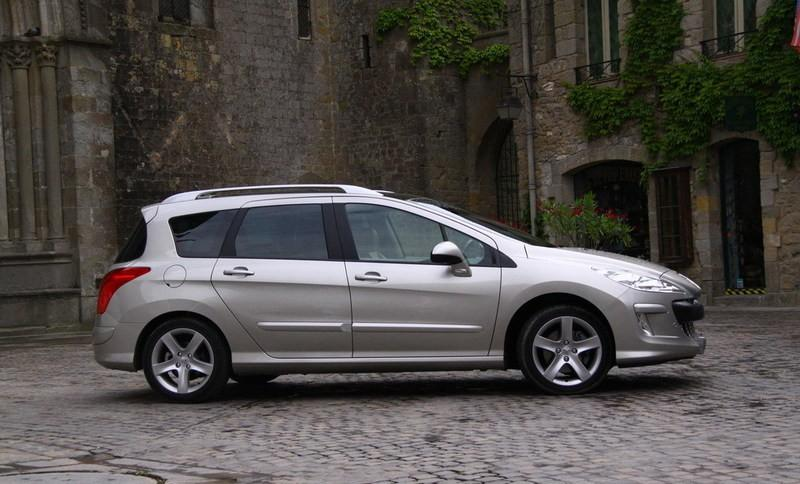Wagon: (91, 182, 708, 405)
